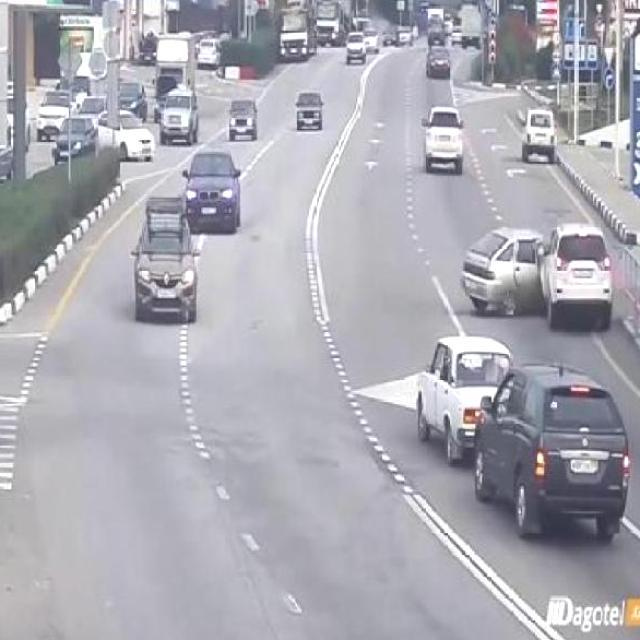accident: (461, 219, 615, 334)
